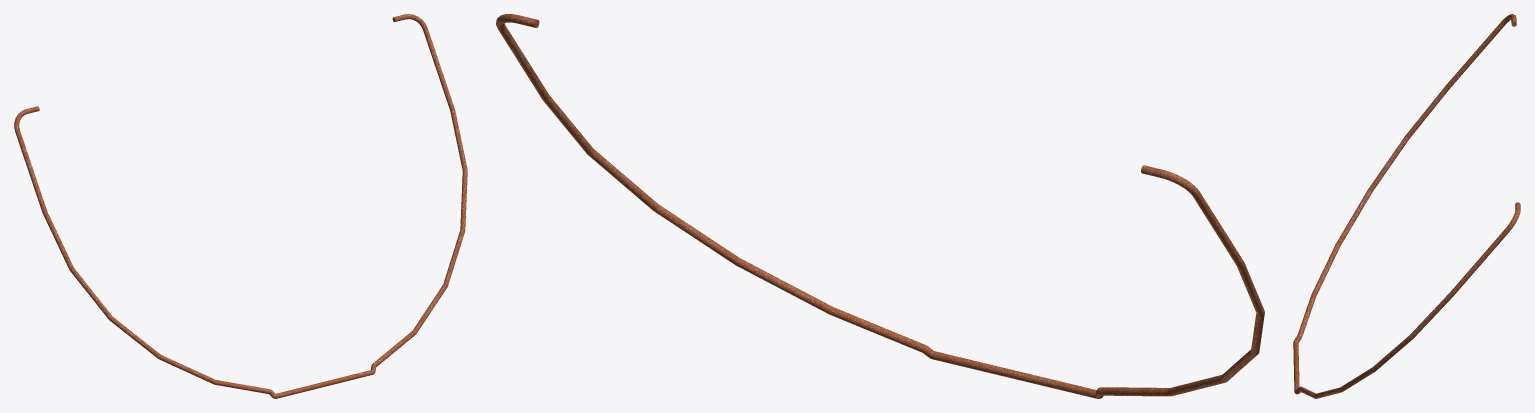
The model's file is original-5.obj.
3 views of the same model, side by side, from view 1: azimuth 30°, elevation 25°; view 2: azimuth 150°, elevation 25°; view 3: azimuth 270°, elevation 25° (orthographic). The views are drawn at different scales.
Visible parts, largest first — view 1: Handle1/Handle/mesh3/mesh3-geometry#mesh3-geometry; view 2: Handle1/Handle/mesh3/mesh3-geometry#mesh3-geometry; view 3: Handle1/Handle/mesh3/mesh3-geometry#mesh3-geometry.
Part boxes in pixels (left/top/right/bottom): Handle1/Handle/mesh3/mesh3-geometry#mesh3-geometry: left=14, top=14, right=467, bottom=398; Handle1/Handle/mesh3/mesh3-geometry#mesh3-geometry: left=496, top=14, right=1264, bottom=398; Handle1/Handle/mesh3/mesh3-geometry#mesh3-geometry: left=1293, top=14, right=1520, bottom=398.
Bounding box in the file's own units: 1.19 × 0.6821 × 0.5473.
